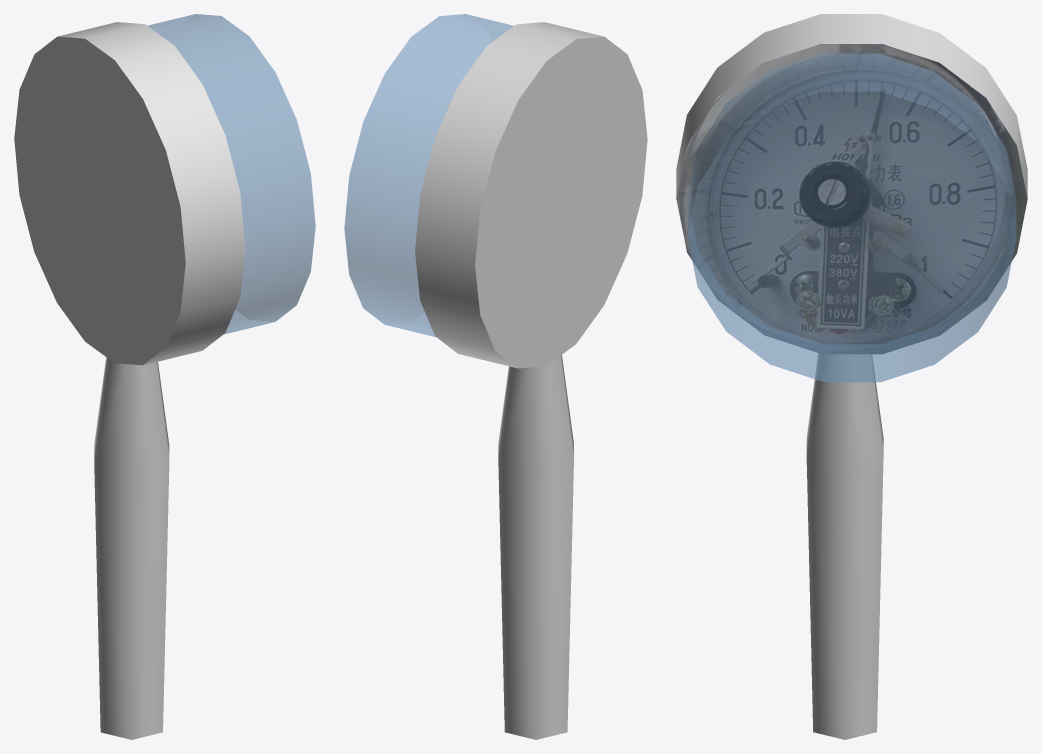
Rendered from 电接点压力表.obj.
The picture shows the model from 3 angles, left to right: view 1: azimuth 30°, elevation 25°; view 2: azimuth 150°, elevation 25°; view 3: azimuth 270°, elevation 25°; orthographic projection. The views are drawn at different scales.
Visible parts, largest first — view 1: Cylinder327, Cylinder328, Cylinder332; view 2: Cylinder327, Cylinder328, Cylinder332; view 3: Cylinder327, Cylinder332, Cylinder328.
Part boxes in pixels (box(x1,y1,x2,y2)): Cylinder327: box(14, 22, 245, 365); Cylinder328: box(94, 357, 169, 739); Cylinder332: box(148, 14, 315, 334); Cylinder327: box(415, 22, 647, 368); Cylinder328: box(498, 355, 573, 739); Cylinder332: box(344, 14, 513, 336); Cylinder327: box(676, 14, 1027, 353); Cylinder332: box(687, 54, 1016, 382); Cylinder328: box(806, 353, 883, 739).
Size of the model in its own units: 5.87 by 26.38 by 12.06.
